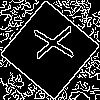X: (25, 25, 74, 62)
